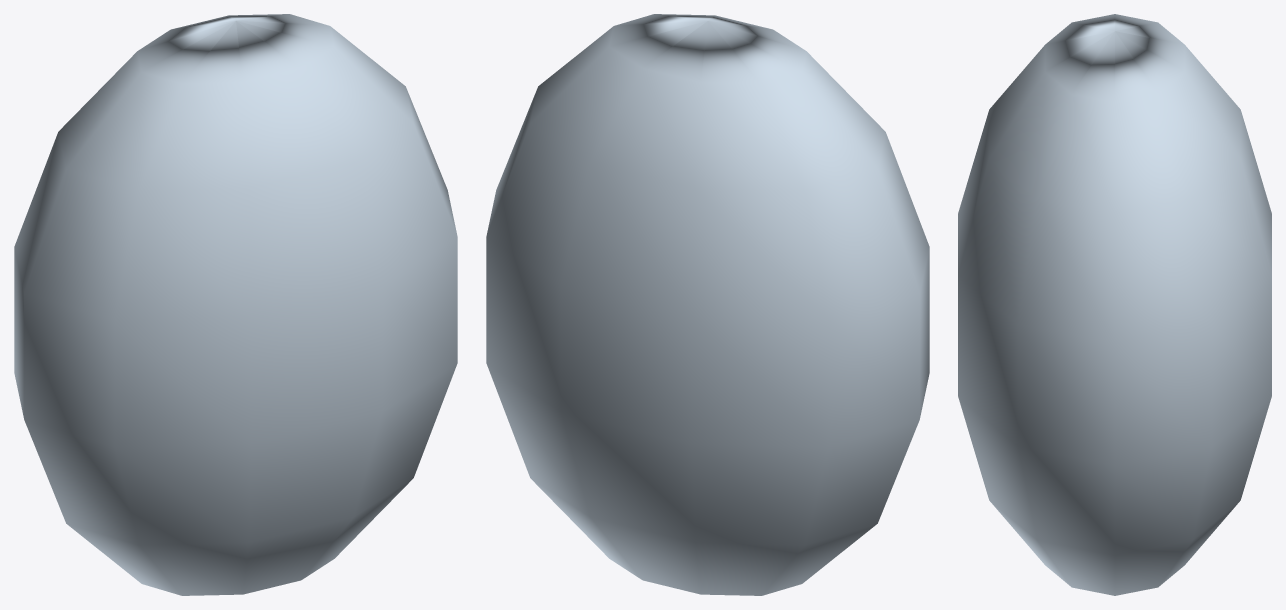
File: Mona_PhantomCardState_PeriodicPulse_MonaWaterDrop.fbx
3 renders of one model, left to right at view 1: azimuth 30°, elevation 25°; view 2: azimuth 150°, elevation 25°; view 3: azimuth 270°, elevation 25°, orthographic. The views are drawn at different scales.
Parts seen in each view (by area): view 1: PART_MonaSmallBlueDrop; view 2: PART_MonaSmallBlueDrop; view 3: PART_MonaSmallBlueDrop.
Boxes of the visible parts, x1,y1,x2,y2 form: PART_MonaSmallBlueDrop: (14,14,457,595); PART_MonaSmallBlueDrop: (486,14,929,595); PART_MonaSmallBlueDrop: (958,14,1271,595).
Size of the model in its own units: 8.77 by 11.25 by 5.84.
